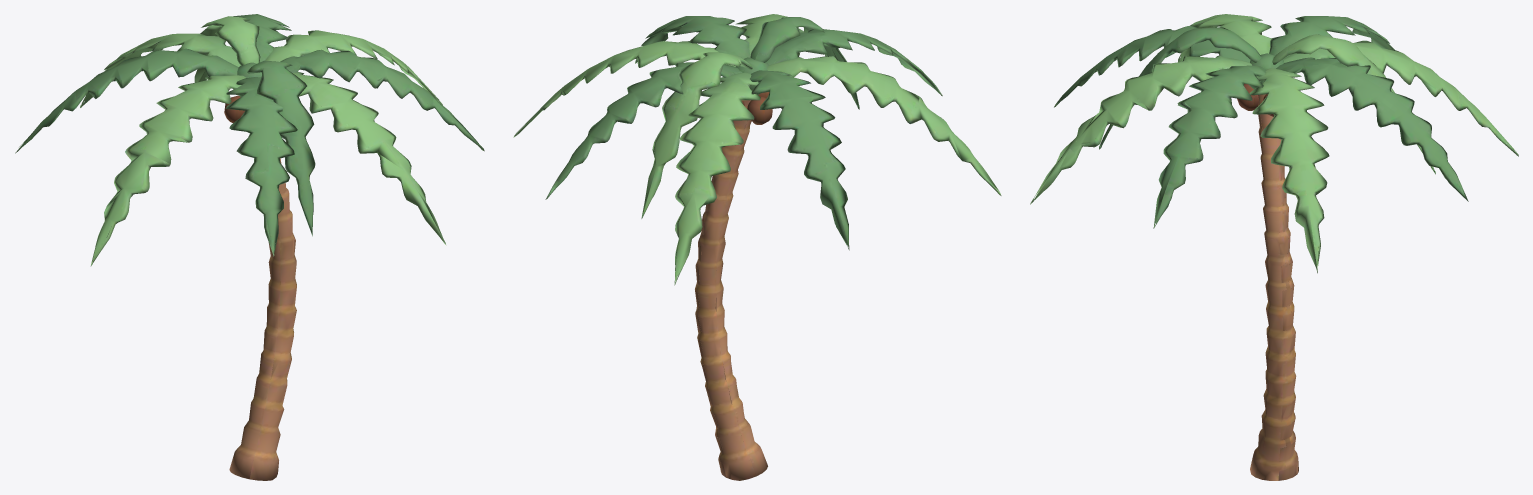
Rendered from palm.glb.
3 views of the same model, side by side, from view 1: azimuth 30°, elevation 25°; view 2: azimuth 150°, elevation 25°; view 3: azimuth 270°, elevation 25° (orthographic).
Parts seen in each view (by area): view 1: lod0; view 2: lod0; view 3: lod0.
Boxes of the visible parts, bbox=[...] form: lod0: bbox=[15, 14, 484, 480]; lod0: bbox=[513, 14, 1001, 480]; lod0: bbox=[1030, 14, 1518, 480].
Size of what is drawn, in the model's own units: 5.18 by 5.09 by 5.18.
1 material, 1 textured.
